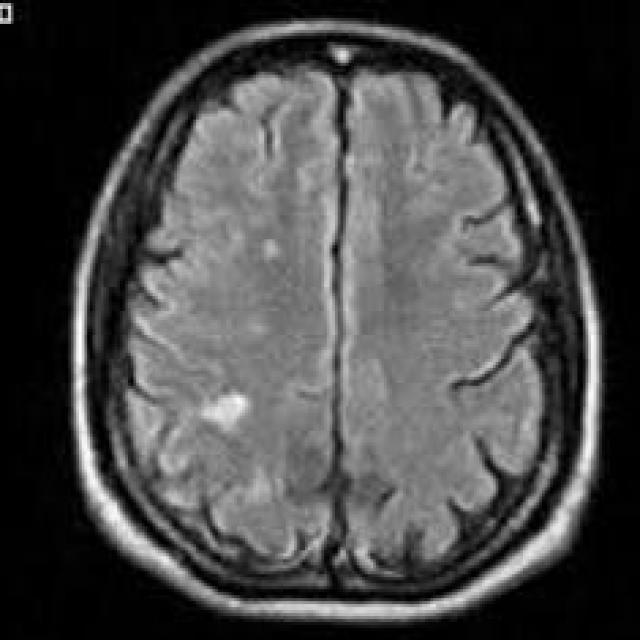notumor: (74, 21, 599, 616)
